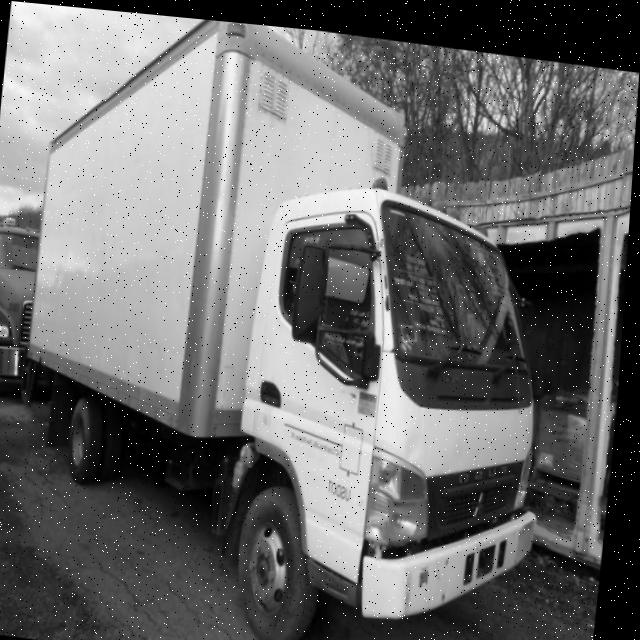truck: (207, 143, 580, 640)
